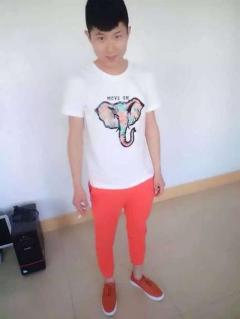short sleeve top: (59, 58, 162, 190)
trousers: (88, 171, 154, 279)
